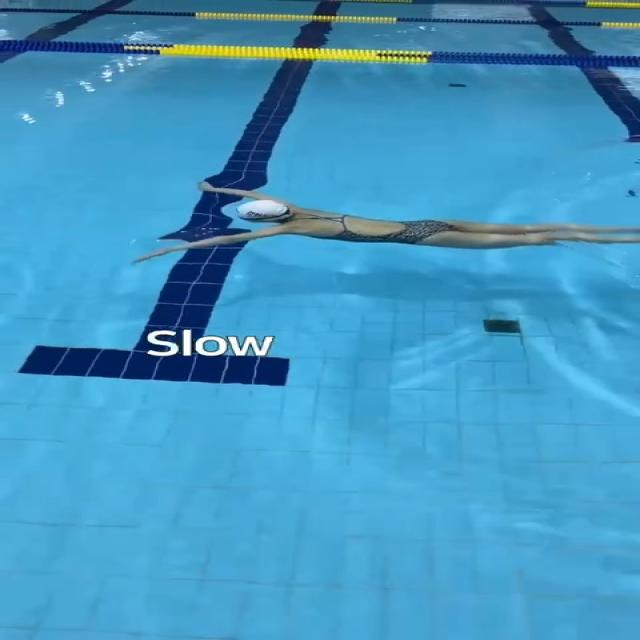Swimming: (113, 164, 637, 288)
